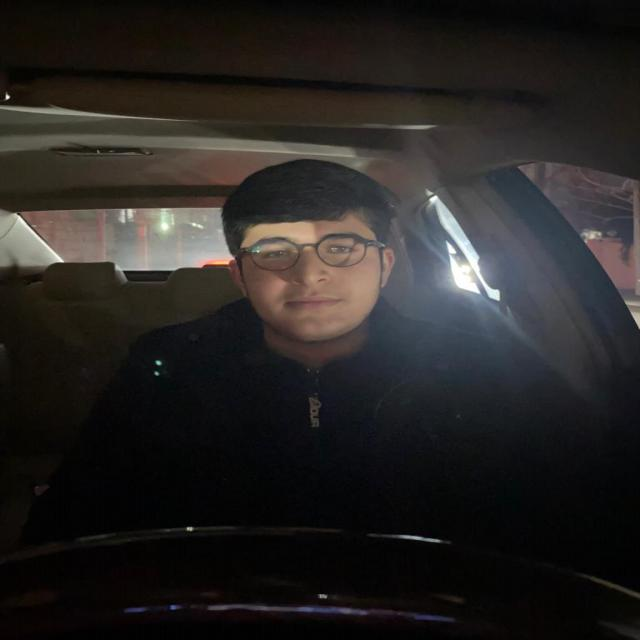person: (225, 171, 407, 329)
